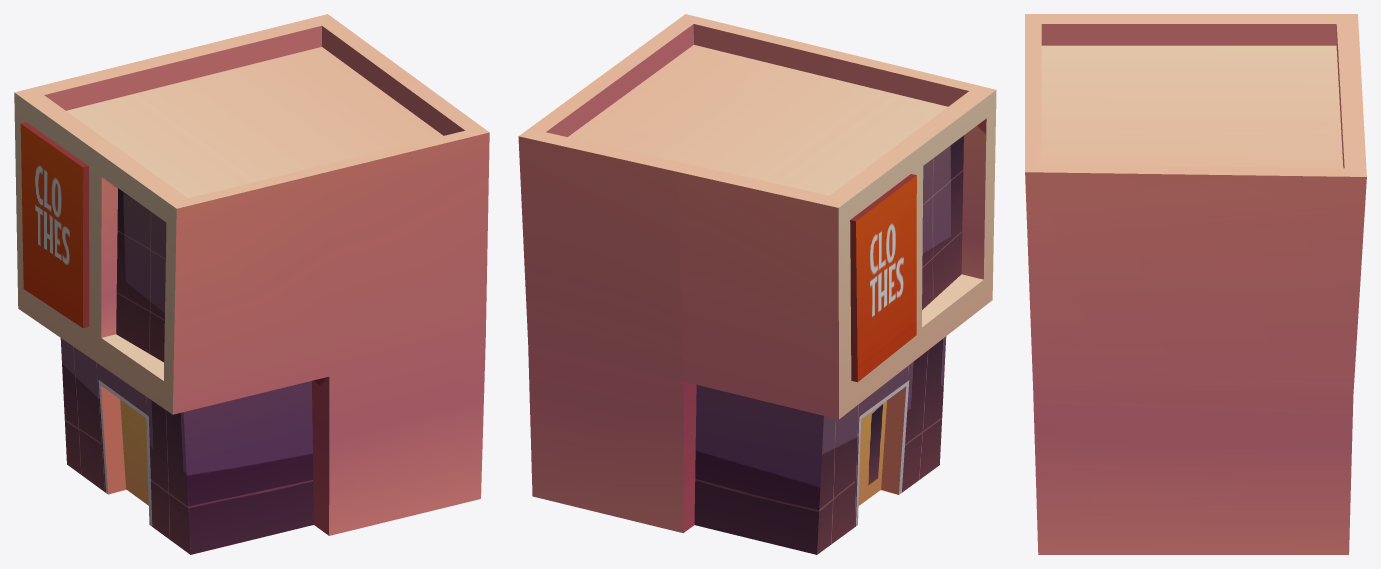
Rendered from Tienda.fbx.
The picture shows the model from 3 angles, left to right: view 1: azimuth 30°, elevation 25°; view 2: azimuth 150°, elevation 25°; view 3: azimuth 270°, elevation 25°; orthographic projection. The views are drawn at different scales.
Visible parts, largest first — view 1: Cube.045; view 2: Cube.045; view 3: Cube.045.
Boxes of the visible parts, <box> form: Cube.045: <box>14,14,489,554</box>; Cube.045: <box>518,14,996,554</box>; Cube.045: <box>1025,14,1366,554</box>.
Size of the model in its own units: 990 by 1083 by 874.
1 material, 1 textured.
